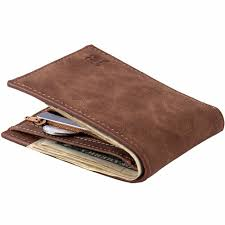monedero: (1, 45, 225, 183)
